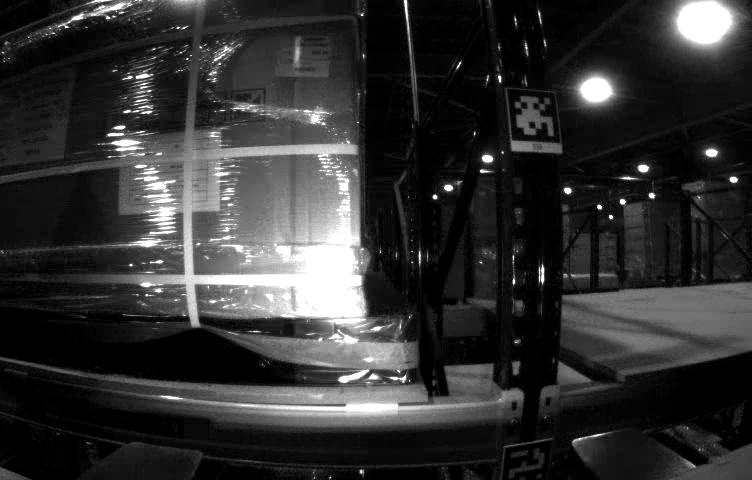True Barcode: (280, 35, 330, 78)
